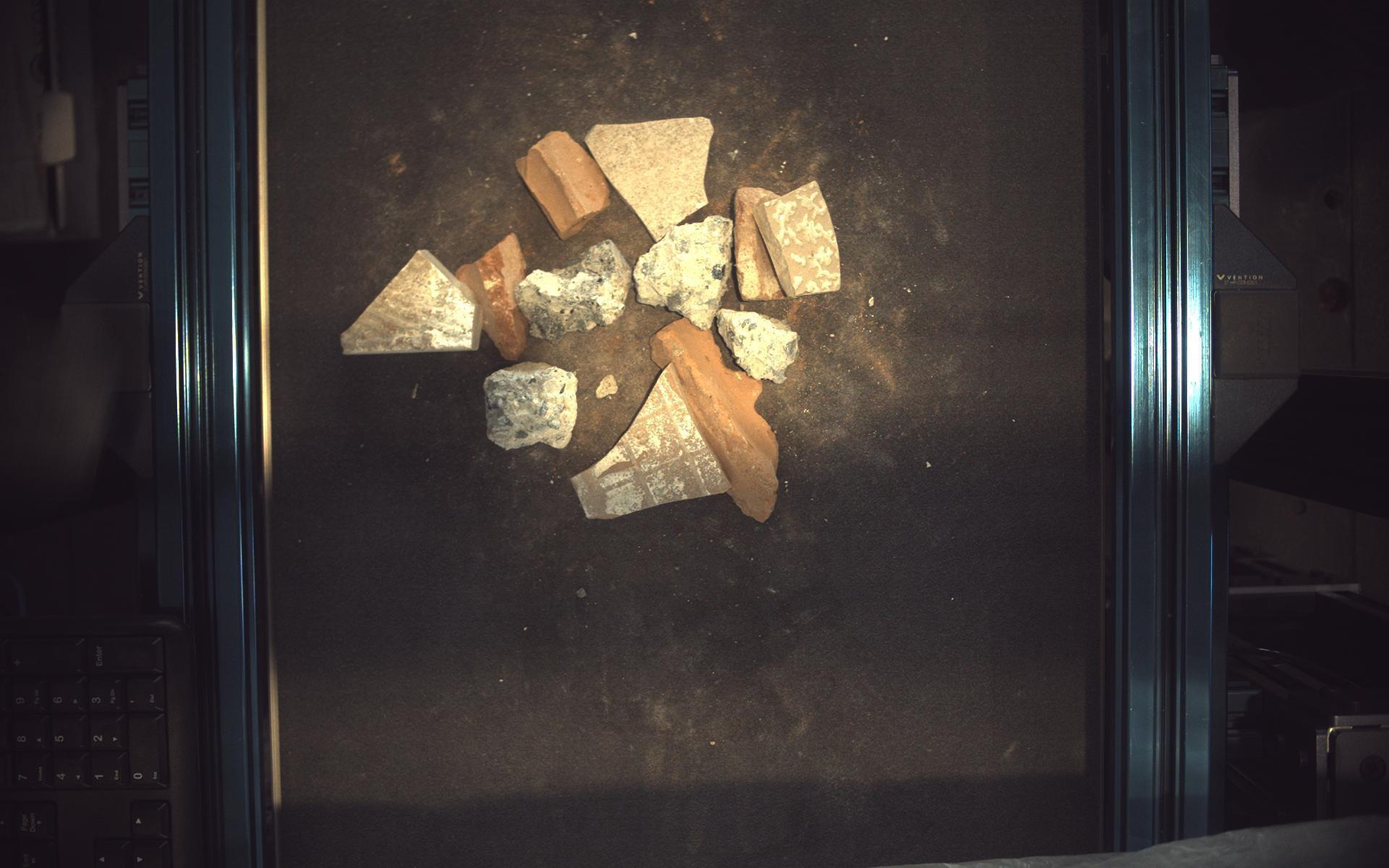brick: (652, 318, 780, 523), (516, 129, 611, 238), (455, 232, 528, 362)
concrete: (514, 239, 632, 341), (634, 215, 734, 331), (485, 362, 578, 450), (718, 310, 799, 384)
tile: (572, 365, 731, 519), (586, 116, 715, 240), (340, 249, 483, 354), (755, 180, 842, 297), (735, 186, 787, 300)
